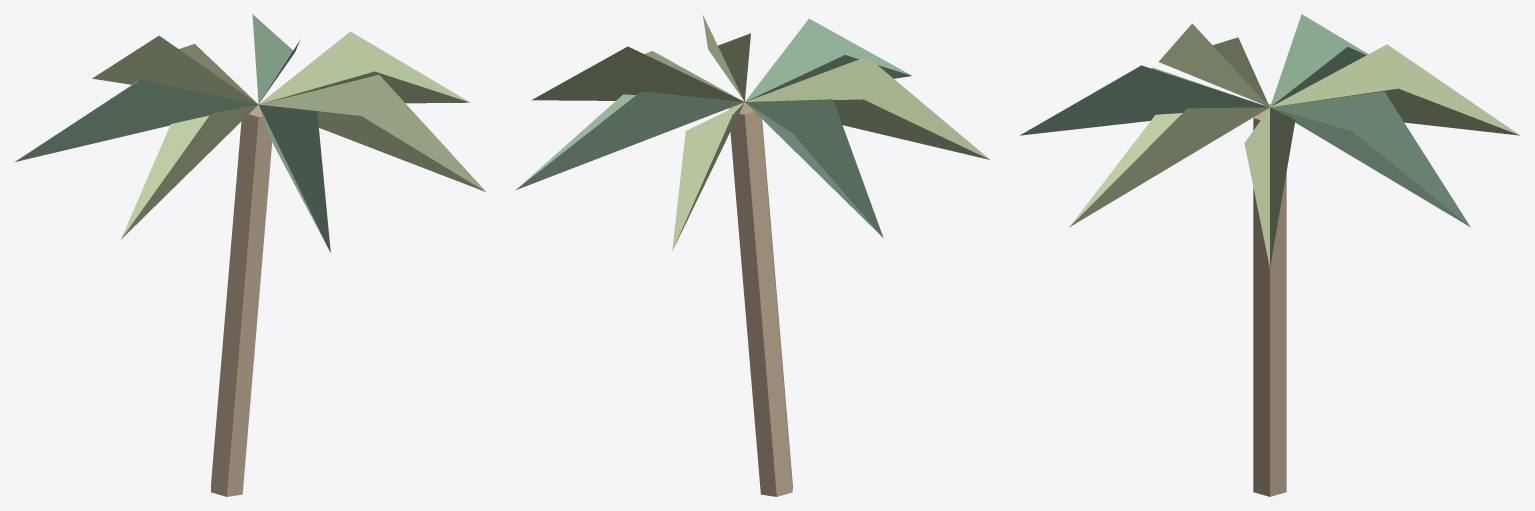
File: tree_palm.glb
The picture shows the model from 3 angles, left to right: view 1: azimuth 30°, elevation 25°; view 2: azimuth 150°, elevation 25°; view 3: azimuth 270°, elevation 25°; orthographic projection. The views are drawn at different scales.
Visible parts, largest first — view 1: tree_palm__trunk, tree_palm__palm_frond.006, tree_palm__palm_frond.003, tree_palm__palm_frond, tree_palm__palm_frond.002, tree_palm__palm_frond.004, tree_palm__palm_frond.005, tree_palm__palm_frond.001; view 2: tree_palm__trunk, tree_palm__palm_frond.004, tree_palm__palm_frond.001, tree_palm__palm_frond.003, tree_palm__palm_frond, tree_palm__palm_frond.005, tree_palm__palm_frond.002, tree_palm__palm_frond.006; view 3: tree_palm__trunk, tree_palm__palm_frond.001, tree_palm__palm_frond.002, tree_palm__palm_frond.005, tree_palm__palm_frond.006, tree_palm__palm_frond, tree_palm__palm_frond.004, tree_palm__palm_frond.003.
Boxes of the visible parts, x1,y1,x2,y2 form: tree_palm__trunk: (211,103,272,496); tree_palm__palm_frond.006: (259,75,486,192); tree_palm__palm_frond.003: (14,80,257,162); tree_palm__palm_frond: (259,31,469,104); tree_palm__palm_frond.002: (92,35,258,104); tree_palm__palm_frond.004: (121,104,257,239); tree_palm__palm_frond.005: (259,104,330,252); tree_palm__palm_frond.001: (252,14,299,103); tree_palm__trunk: (729,100,792,496); tree_palm__palm_frond.004: (746,56,989,159); tree_palm__palm_frond.001: (516,91,744,189); tree_palm__palm_frond.003: (745,99,883,237); tree_palm__palm_frond: (531,46,743,101); tree_palm__palm_frond.005: (745,18,911,101); tree_palm__palm_frond.002: (672,102,744,251); tree_palm__palm_frond.006: (702,15,750,101); tree_palm__trunk: (1253,103,1286,496); tree_palm__palm_frond.001: (1270,91,1470,227); tree_palm__palm_frond.002: (1271,44,1519,135); tree_palm__palm_frond.005: (1020,65,1268,135); tree_palm__palm_frond.006: (1069,107,1269,227); tree_palm__palm_frond: (1244,107,1295,267); tree_palm__palm_frond.004: (1159,23,1269,107); tree_palm__palm_frond.003: (1270,14,1368,107).
Size of the model in its own units: 7.6 by 7.53 by 7.8.
